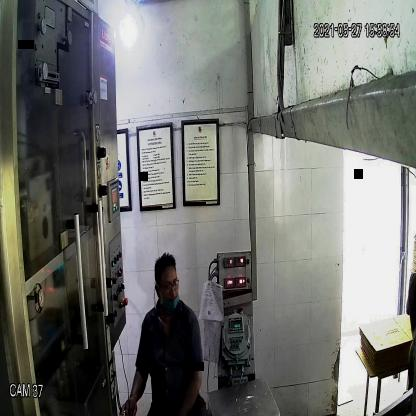goggles: (153, 274, 184, 296)
